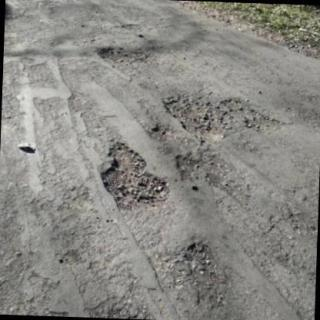pothole: (162, 95, 285, 142), (102, 142, 170, 211), (175, 243, 221, 307), (175, 145, 234, 187), (98, 48, 148, 76)
